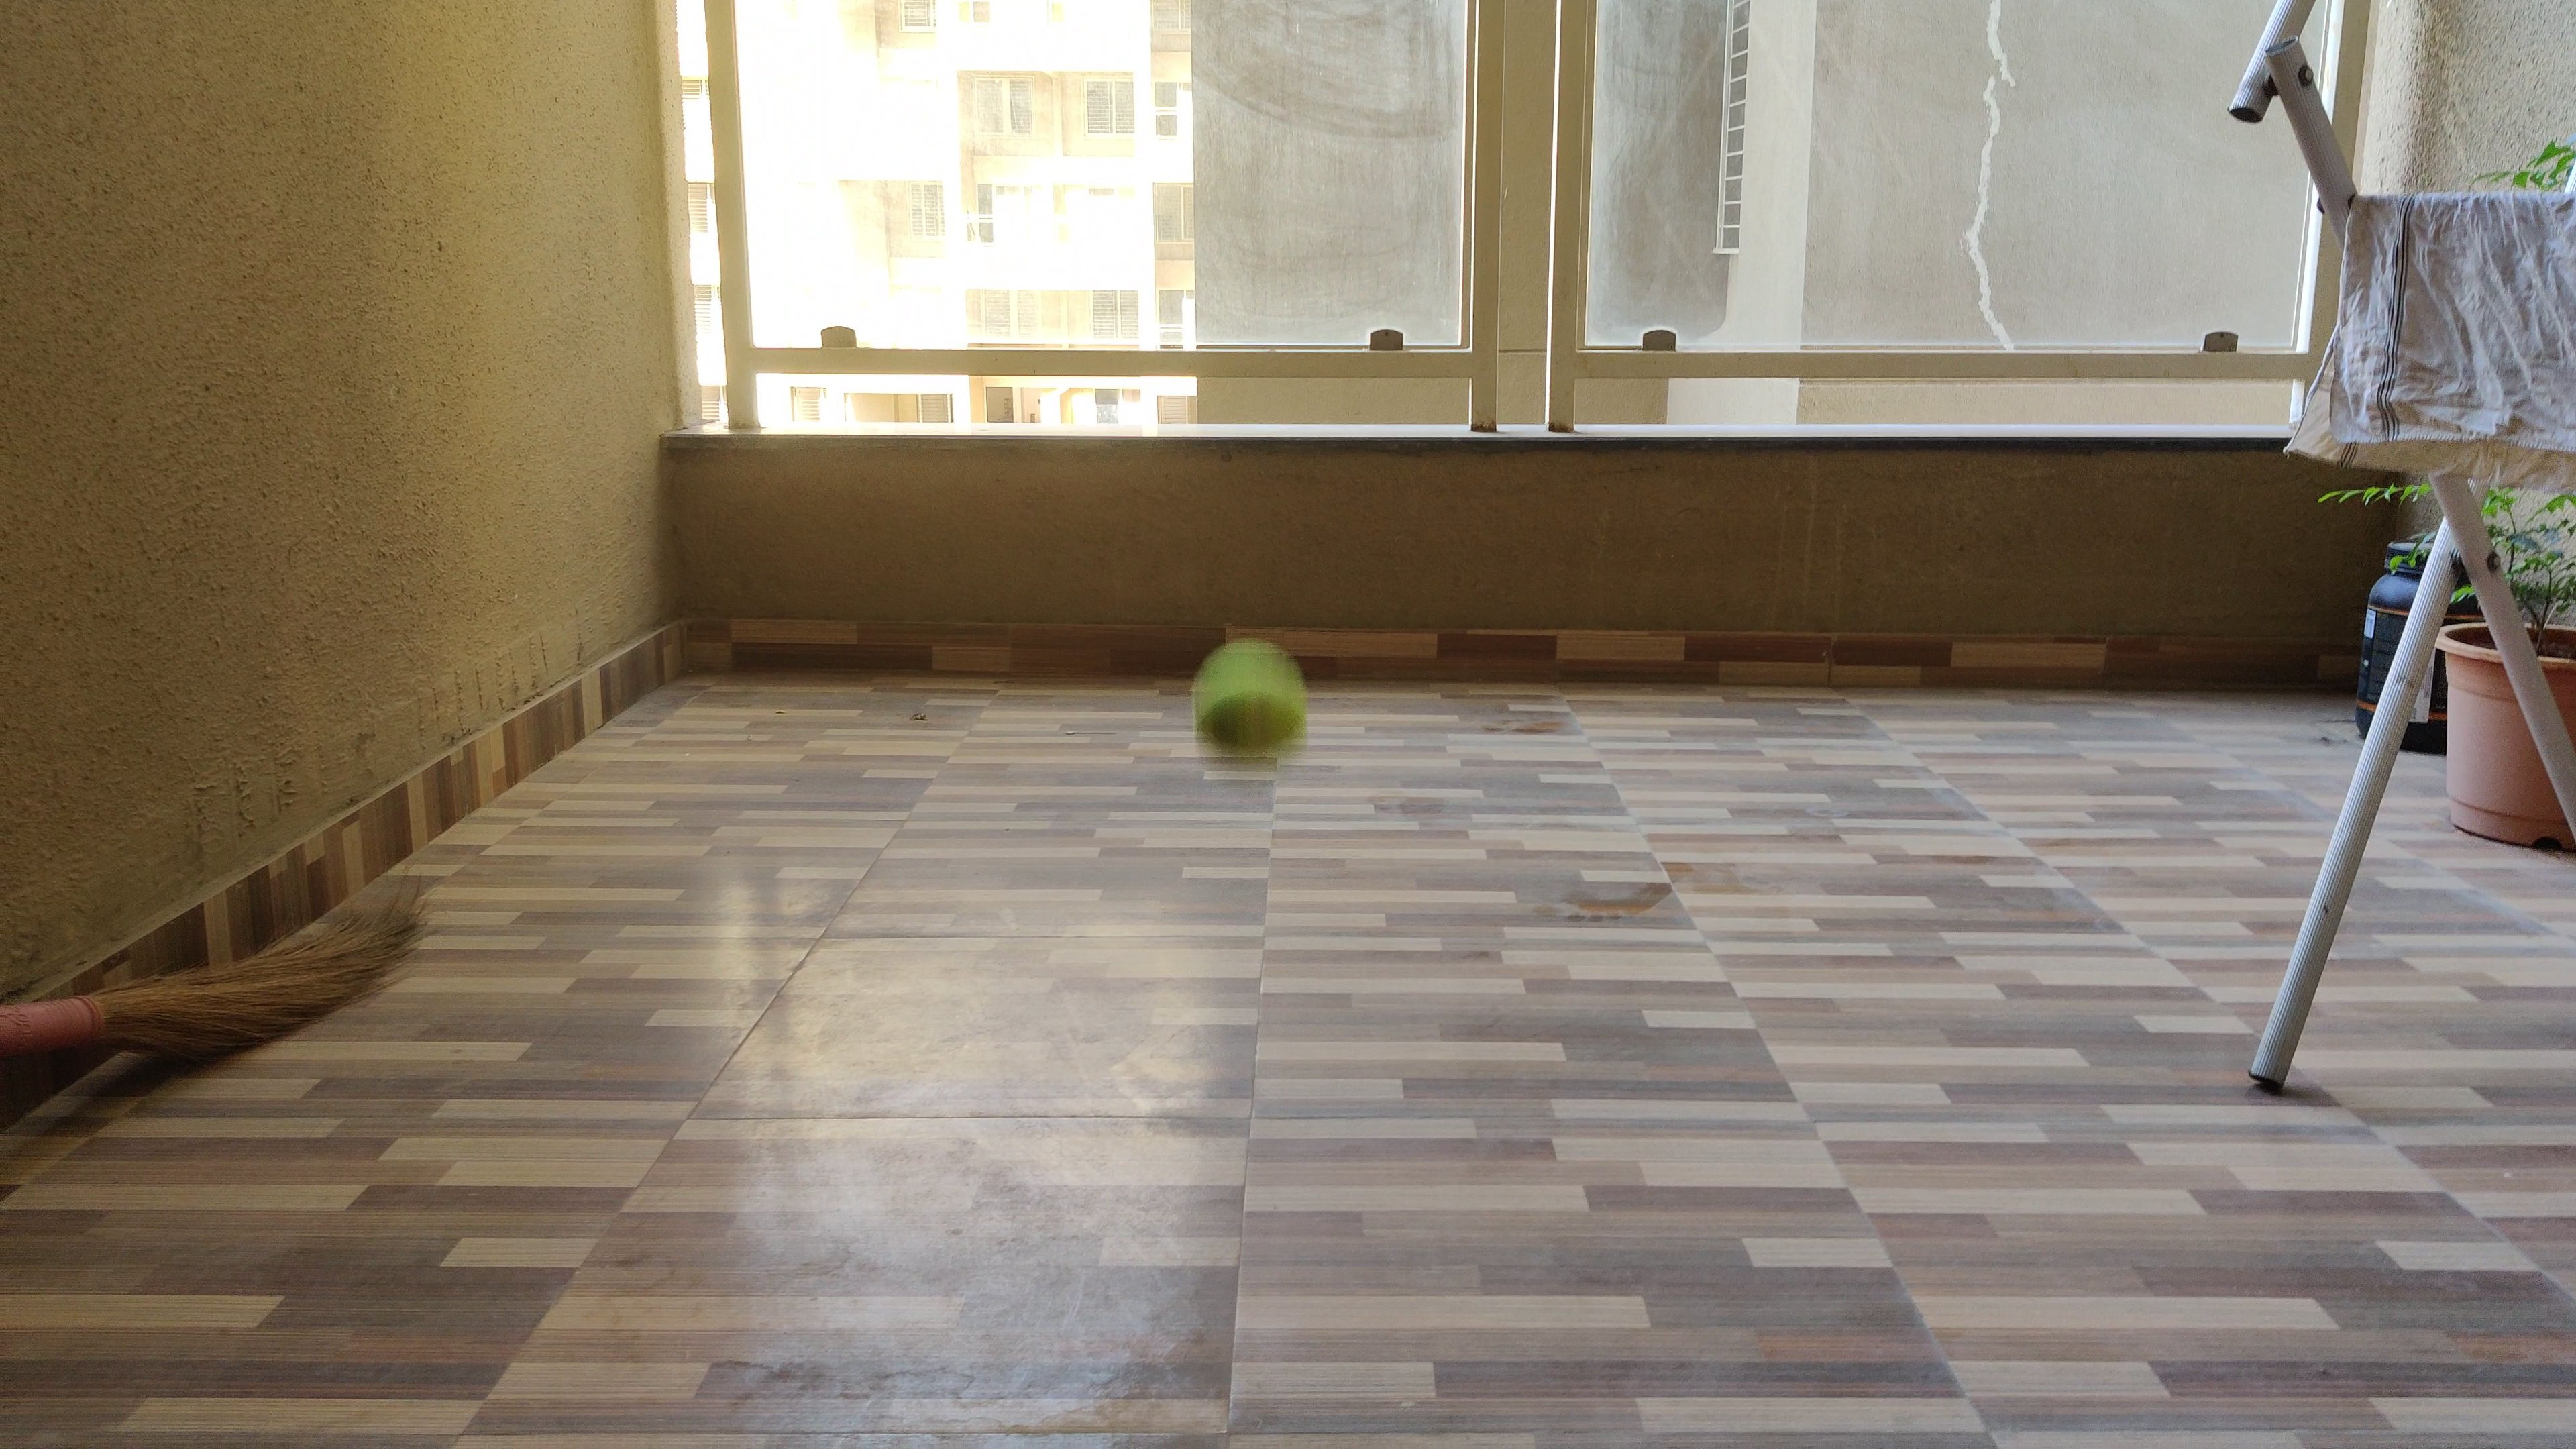Tennis-Ball: (1192, 639, 1307, 754)
